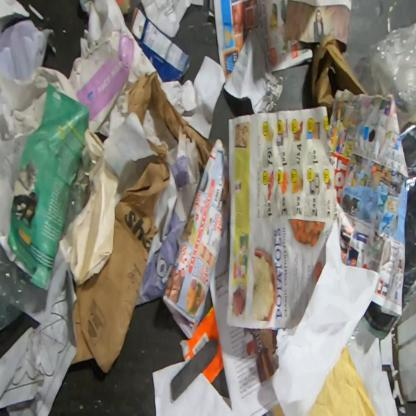cardboard: (310, 32, 370, 128), (129, 6, 191, 84)
rigid_plastic: (0, 242, 32, 333), (60, 172, 92, 236), (78, 0, 139, 15), (344, 317, 362, 349)
soft_plastic: (369, 20, 416, 122)
